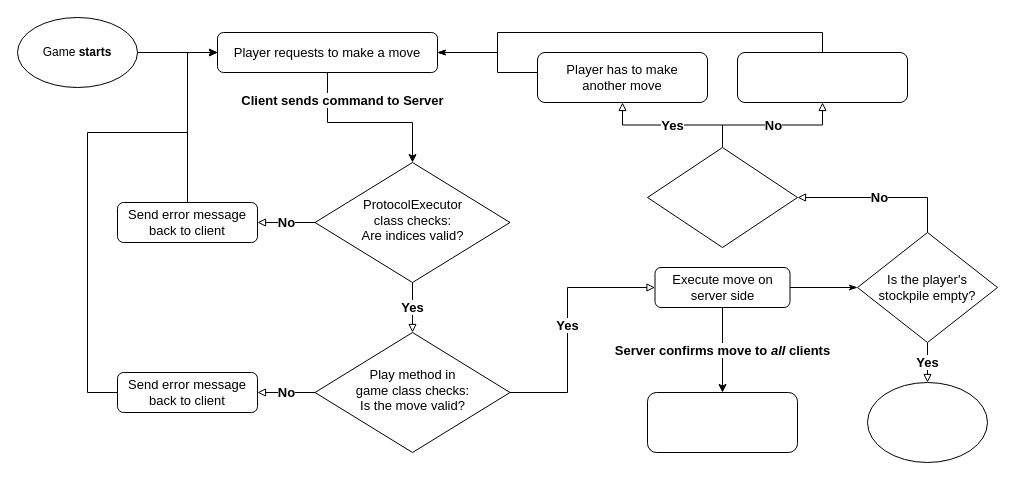
This 1015x480 diagram has some shape labels left out. Here are the shapes that lost their labels. From the top down, the box of each, then its label:
(736, 52, 908, 102): Server ends players turn: next player's turn starts
(646, 146, 798, 248): Was the move to discard?
(646, 392, 798, 452): Client makes move visible on GUI
(866, 382, 988, 462): Player wins Game ends
